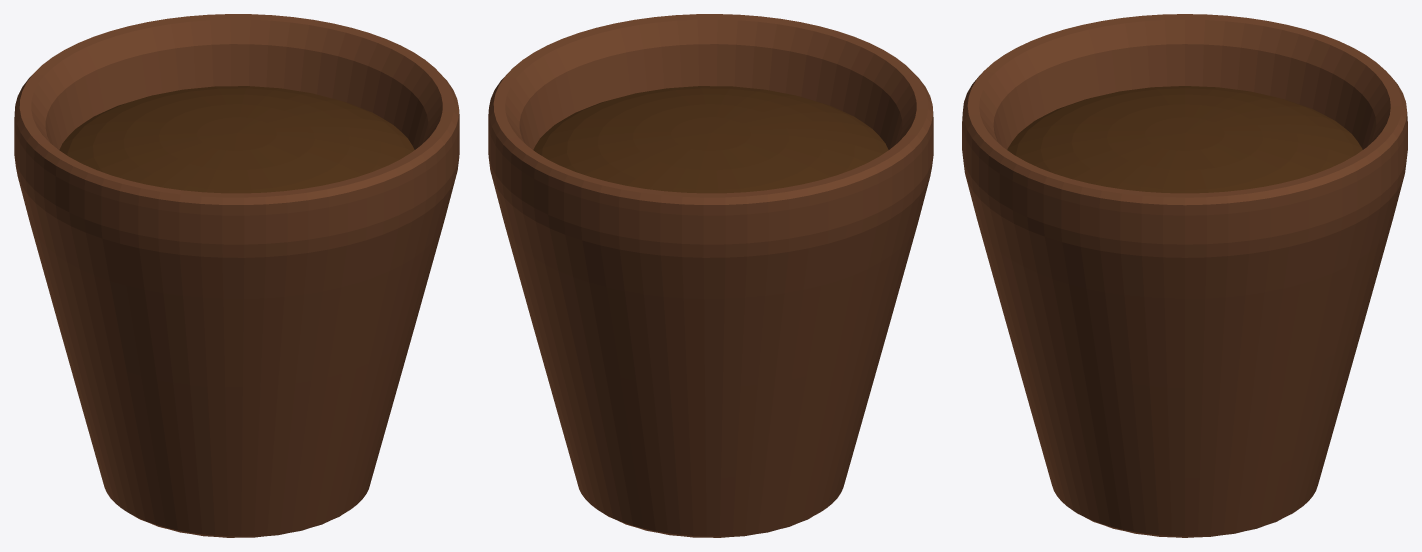
The model's file is Empty Pot.fbx.
3 renders of one model, left to right at view 1: azimuth 30°, elevation 25°; view 2: azimuth 150°, elevation 25°; view 3: azimuth 270°, elevation 25°, orthographic.
Parts seen in each view (by area): view 1: Cylinder, Sphere; view 2: Cylinder, Sphere; view 3: Cylinder, Sphere.
Boxes of the visible parts, x1,y1,x2,y2 form: Cylinder: [14, 14, 459, 537]; Sphere: [59, 86, 414, 193]; Cylinder: [488, 14, 933, 537]; Sphere: [533, 86, 888, 193]; Cylinder: [962, 14, 1407, 537]; Sphere: [1007, 86, 1362, 193].
Size of the model in its own units: 199 by 186 by 199.
